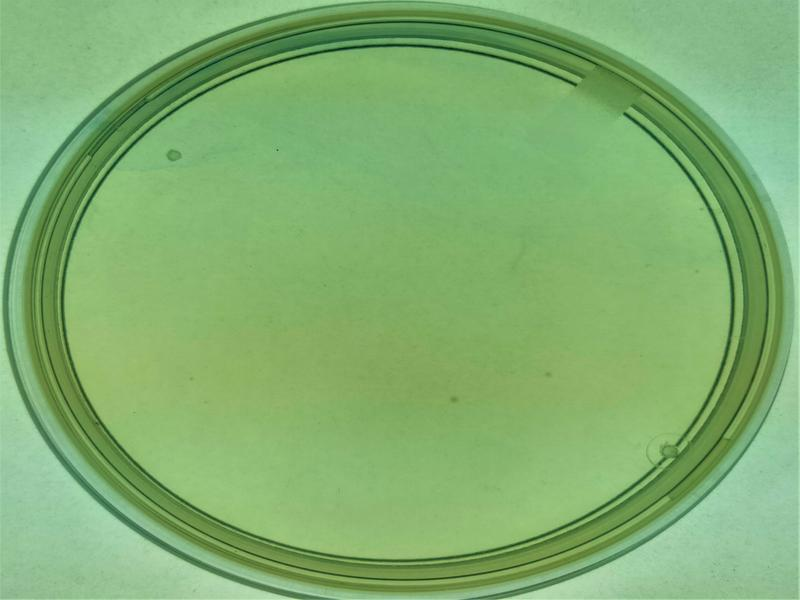colony: (436, 386, 471, 414), (534, 358, 562, 384)
